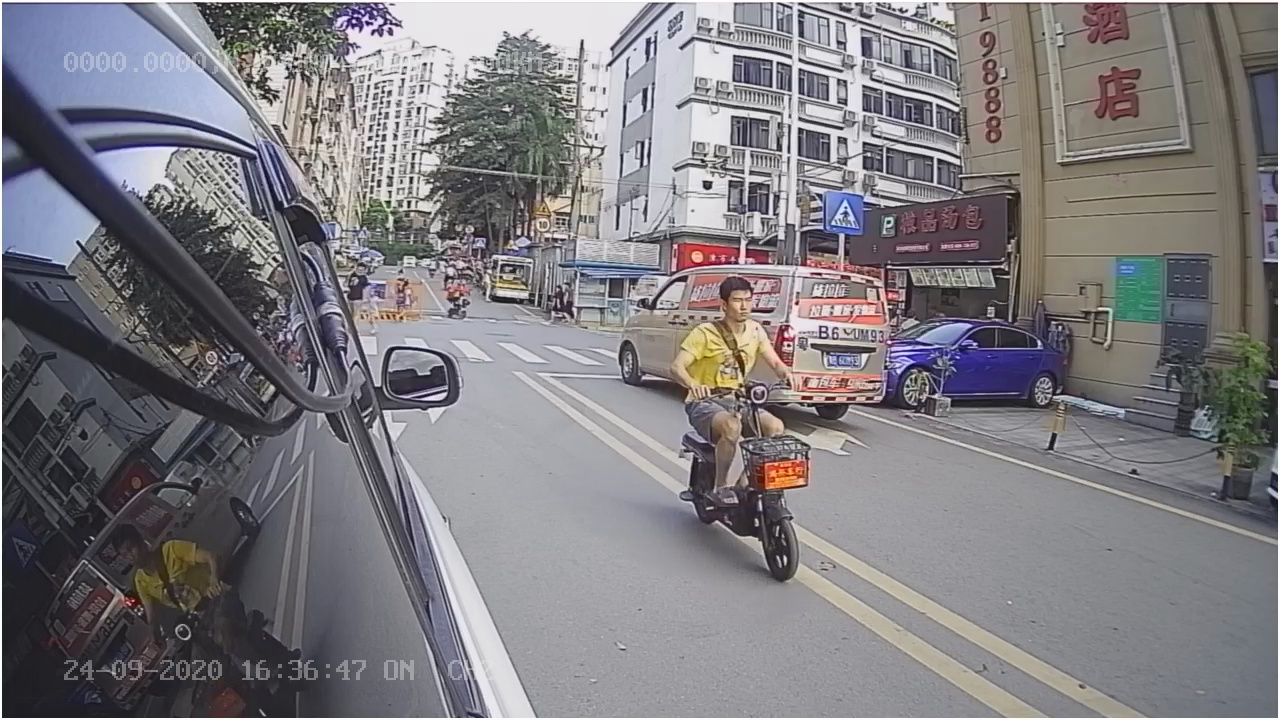person: (639, 264, 831, 603)
